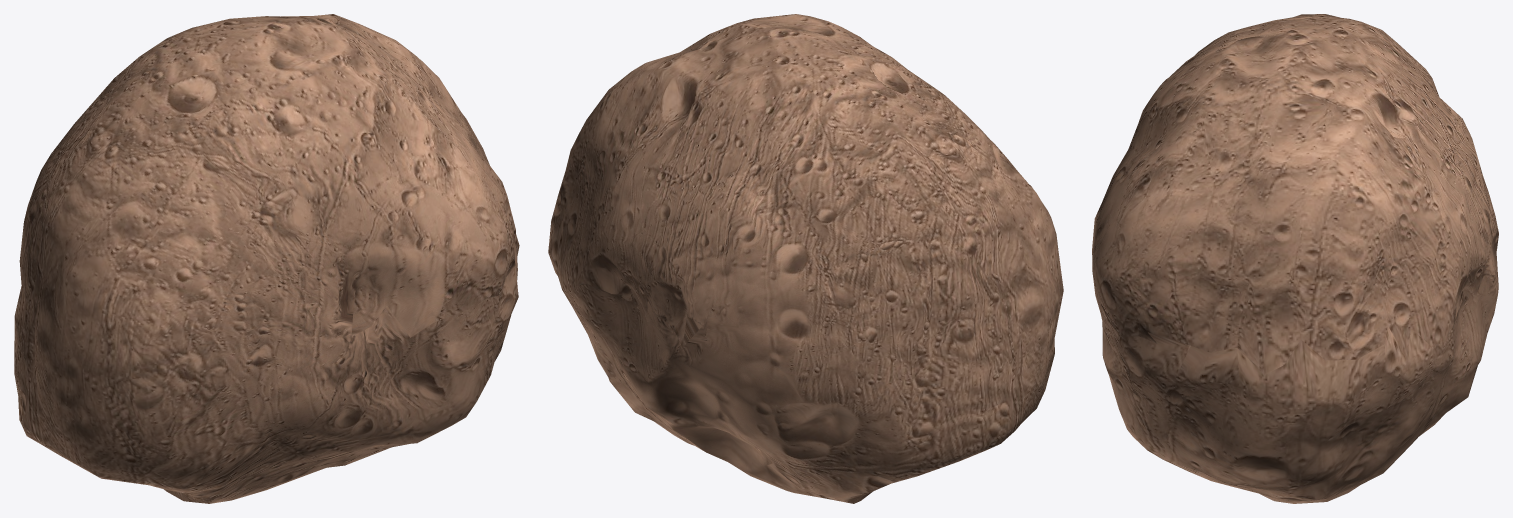
The model's file is phobos - thumbnail.dae.
The picture shows the model from 3 angles, left to right: view 1: azimuth 30°, elevation 25°; view 2: azimuth 150°, elevation 25°; view 3: azimuth 270°, elevation 25°; orthographic projection. The views are drawn at different scales.
Visible parts, largest first — view 1: GeoSphere0; view 2: GeoSphere0; view 3: GeoSphere0.
Boxes of the visible parts, box(x1,y1,x2,y2) form: GeoSphere0: box(14, 14, 519, 503); GeoSphere0: box(548, 14, 1063, 503); GeoSphere0: box(1092, 14, 1498, 503).
Size of the model in its own units: 2.6 by 1.94 by 2.36.
1 material, 1 textured.
